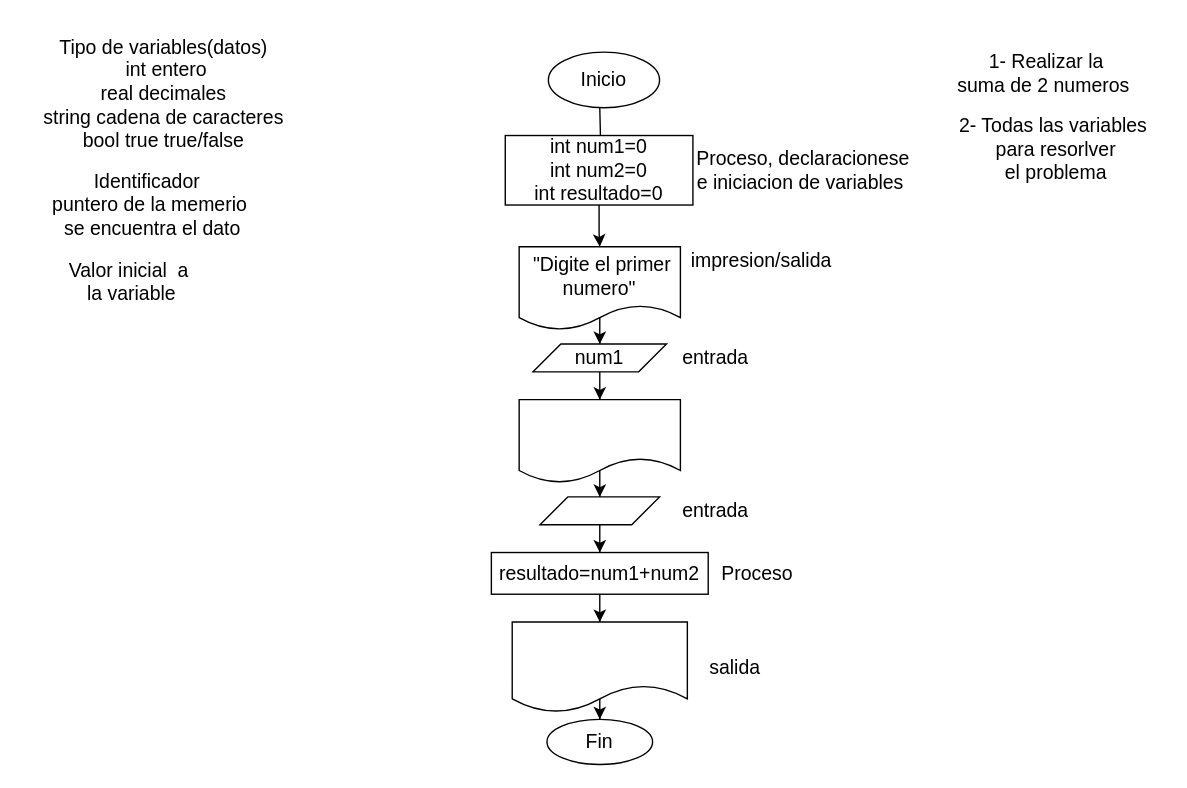
The diagram is 1187 pixels wide and 788 high, and some of its shapes have lost their labels. Each missing label, with the centre of its shape:
"Digite el segundo numero": [599,440]
"El resultado de la suma es: " + resultado: [599,666]
num2: [599,510]
